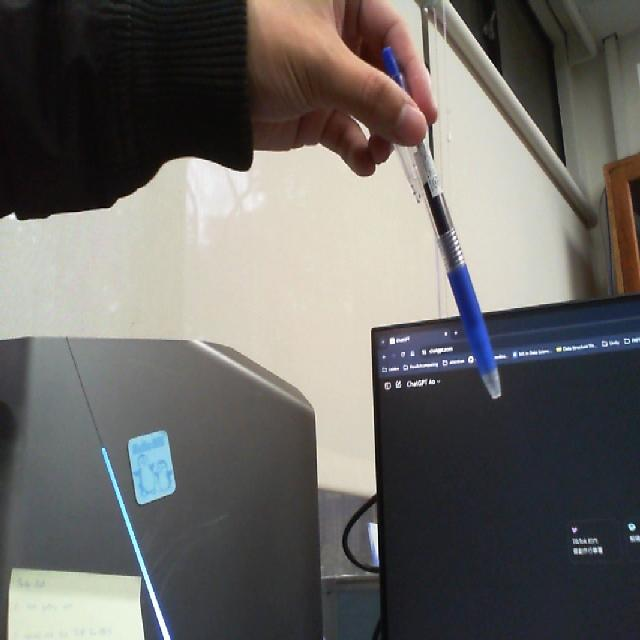Pen: (367, 43, 505, 403)
